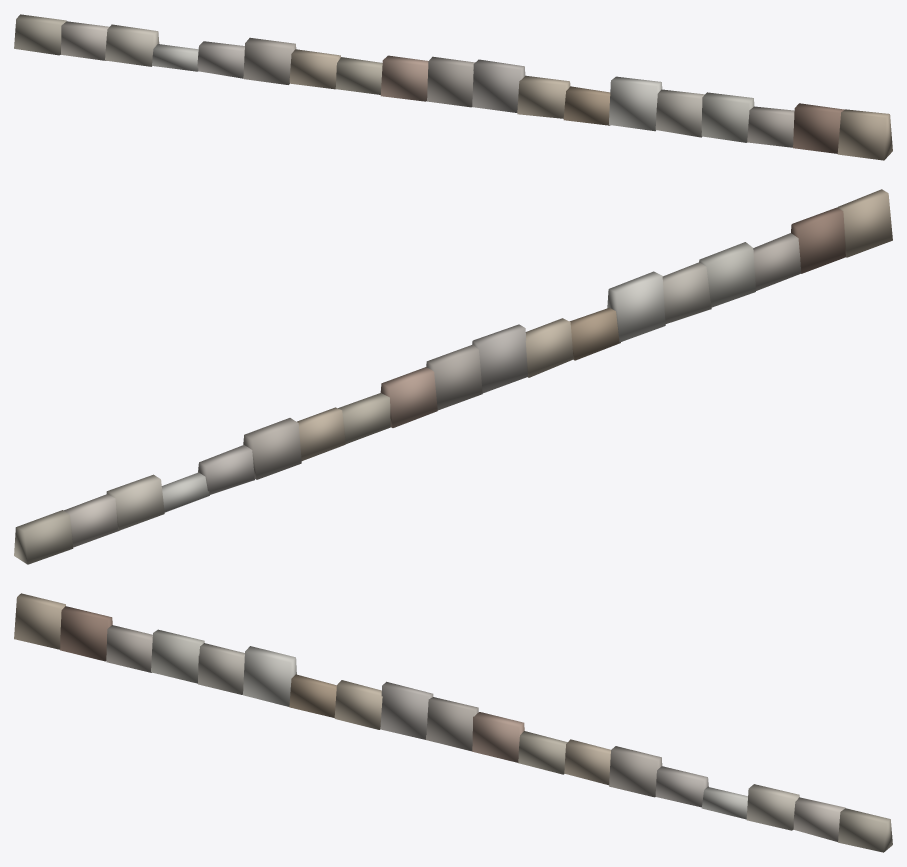
Rendered from farm_6_1_far.glb.
The picture shows the model from 3 angles, top to bottom: view 1: azimuth 90°, elevation 25°; view 2: azimuth 150°, elevation 25°; view 3: azimuth 270°, elevation 25°; orthographic projection. The views are drawn at different scales.
Visible parts, largest first — view 1: geometry_0; view 2: geometry_0; view 3: geometry_0.
Part boxes in pixels (<box>): geometry_0: <box>14,14,892,160</box>; geometry_0: <box>14,189,892,564</box>; geometry_0: <box>14,593,892,852</box>.
Size of the model in its own units: 12.89 by 3.21 by 28.01.
